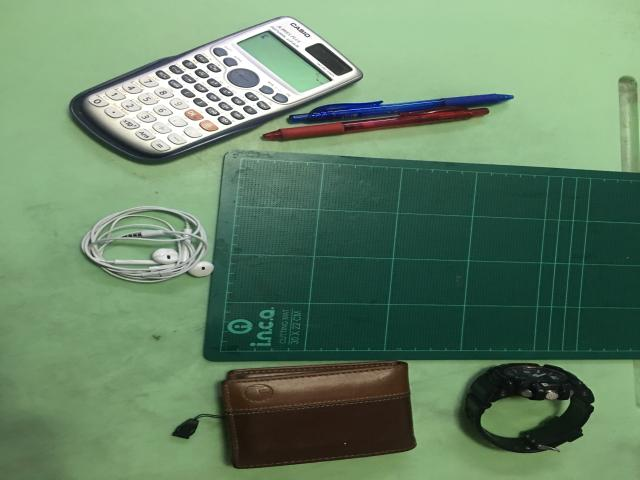Pen: (262, 94, 514, 142)
Wallet: (222, 361, 417, 469)
Watch: (465, 364, 595, 453)
wire: (82, 206, 213, 282)
